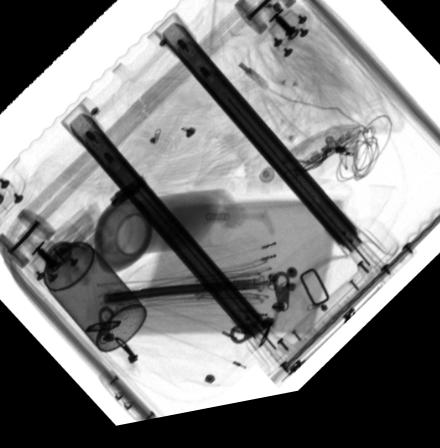Sprayer: (22, 223, 146, 355)
